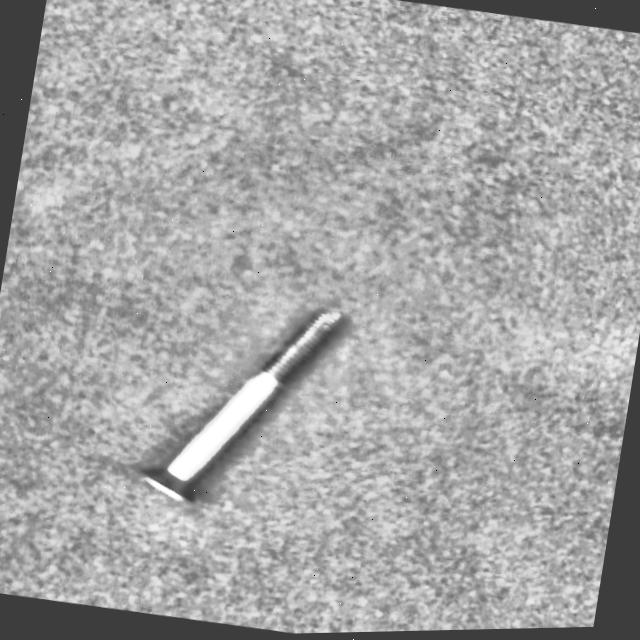Flat head socket screw: (132, 283, 356, 528)
